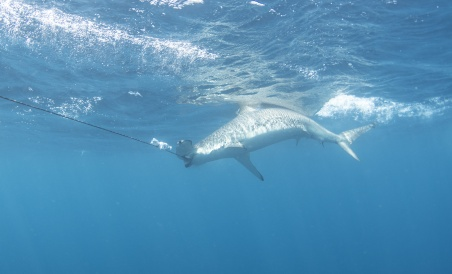Hammer: (153, 92, 380, 193)
